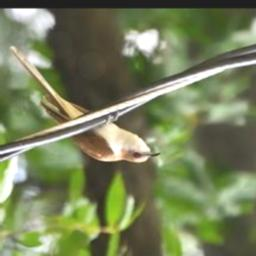Cuckoo: (7, 43, 161, 165)
